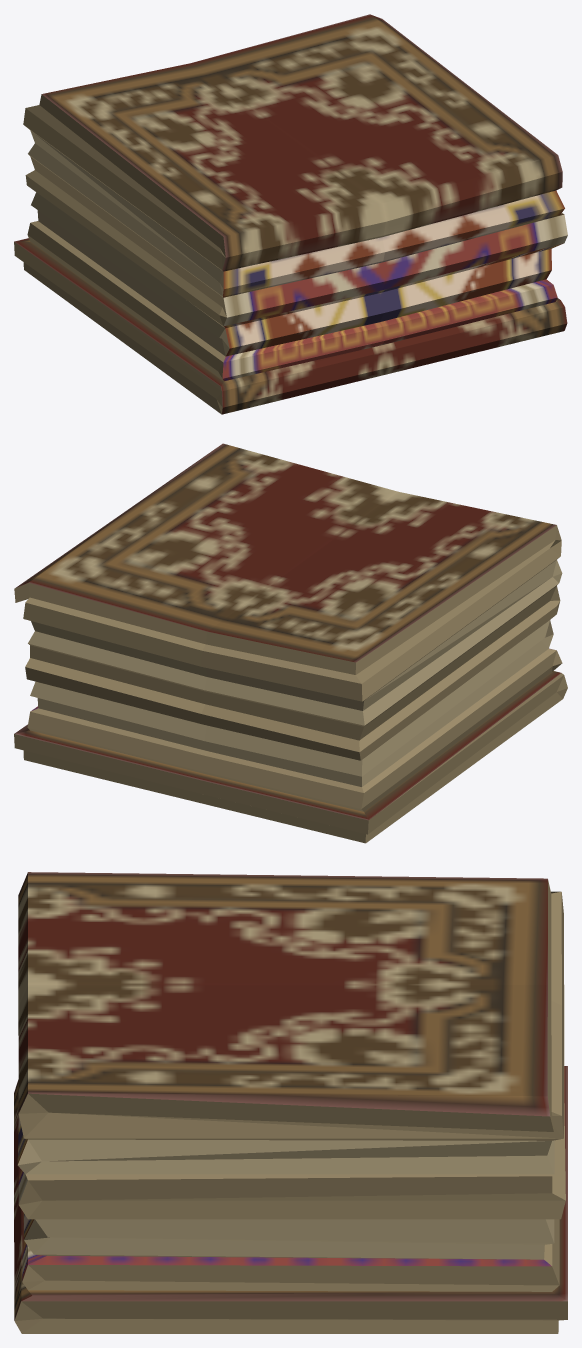
Rendered from SM_Prop_Rug_Pile_01.fbx.
3 views of the same model, one above another, from view 1: azimuth 30°, elevation 25°; view 2: azimuth 150°, elevation 25°; view 3: azimuth 270°, elevation 25° (orthographic). The views are drawn at different scales.
Visible parts, largest first — view 1: SM_Prop_Rug_Pile_01; view 2: SM_Prop_Rug_Pile_01; view 3: SM_Prop_Rug_Pile_01.
Boxes of the visible parts, x1,y1,x2,y2 form: SM_Prop_Rug_Pile_01: [14, 14, 567, 414]; SM_Prop_Rug_Pile_01: [14, 443, 567, 843]; SM_Prop_Rug_Pile_01: [14, 872, 567, 1333].
Size of the model in its own units: 153 by 70.78 by 150.
